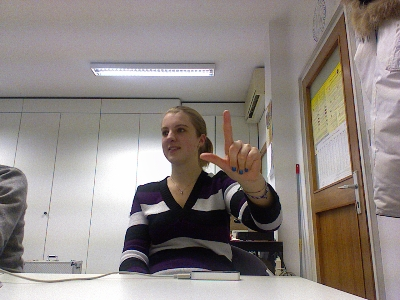枪: (198, 106, 263, 183)
